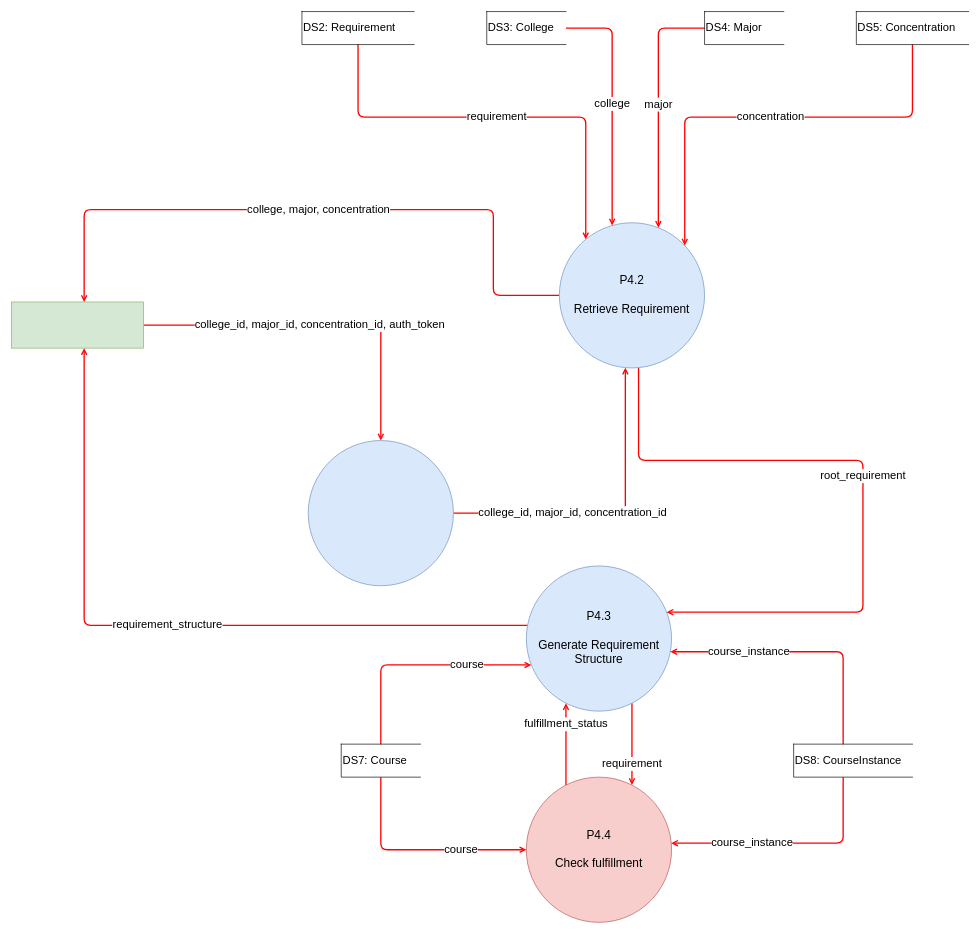
This 980x934 diagram has some shape labels left out. Each missing label, with the centre of its shape:
P4.1 Authenticate Student: the point at 380,513
System Frontend: the point at 77,324
